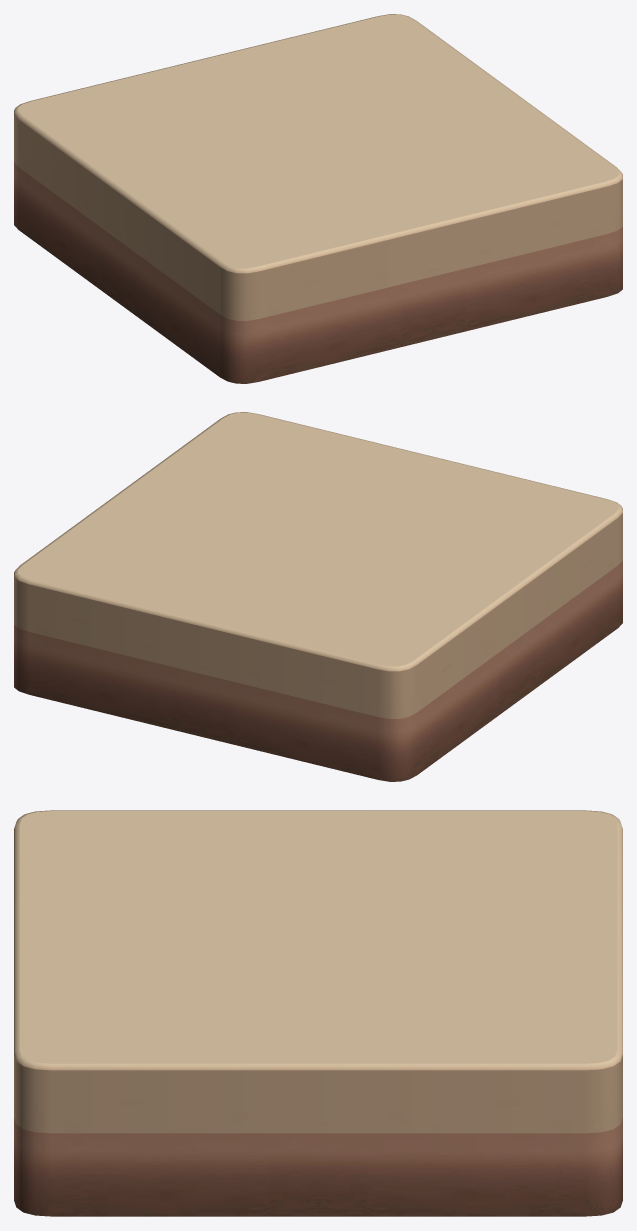
The model's file is Props.fbx.
3 views of the same model, one above another, from view 1: azimuth 30°, elevation 25°; view 2: azimuth 150°, elevation 25°; view 3: azimuth 270°, elevation 25° (orthographic). The views are drawn at different scales.
Parts seen in each view (by area): view 1: Box02; view 2: Box02; view 3: Box02.
Boxes of the visible parts, x1=… form: Box02: x1=14, y1=14, x2=622, y2=383; Box02: x1=14, y1=412, x2=622, y2=781; Box02: x1=14, y1=810, x2=622, y2=1216.
Size of the model in its own units: 9.6 by 2.62 by 9.6.
1 material, 1 textured.
